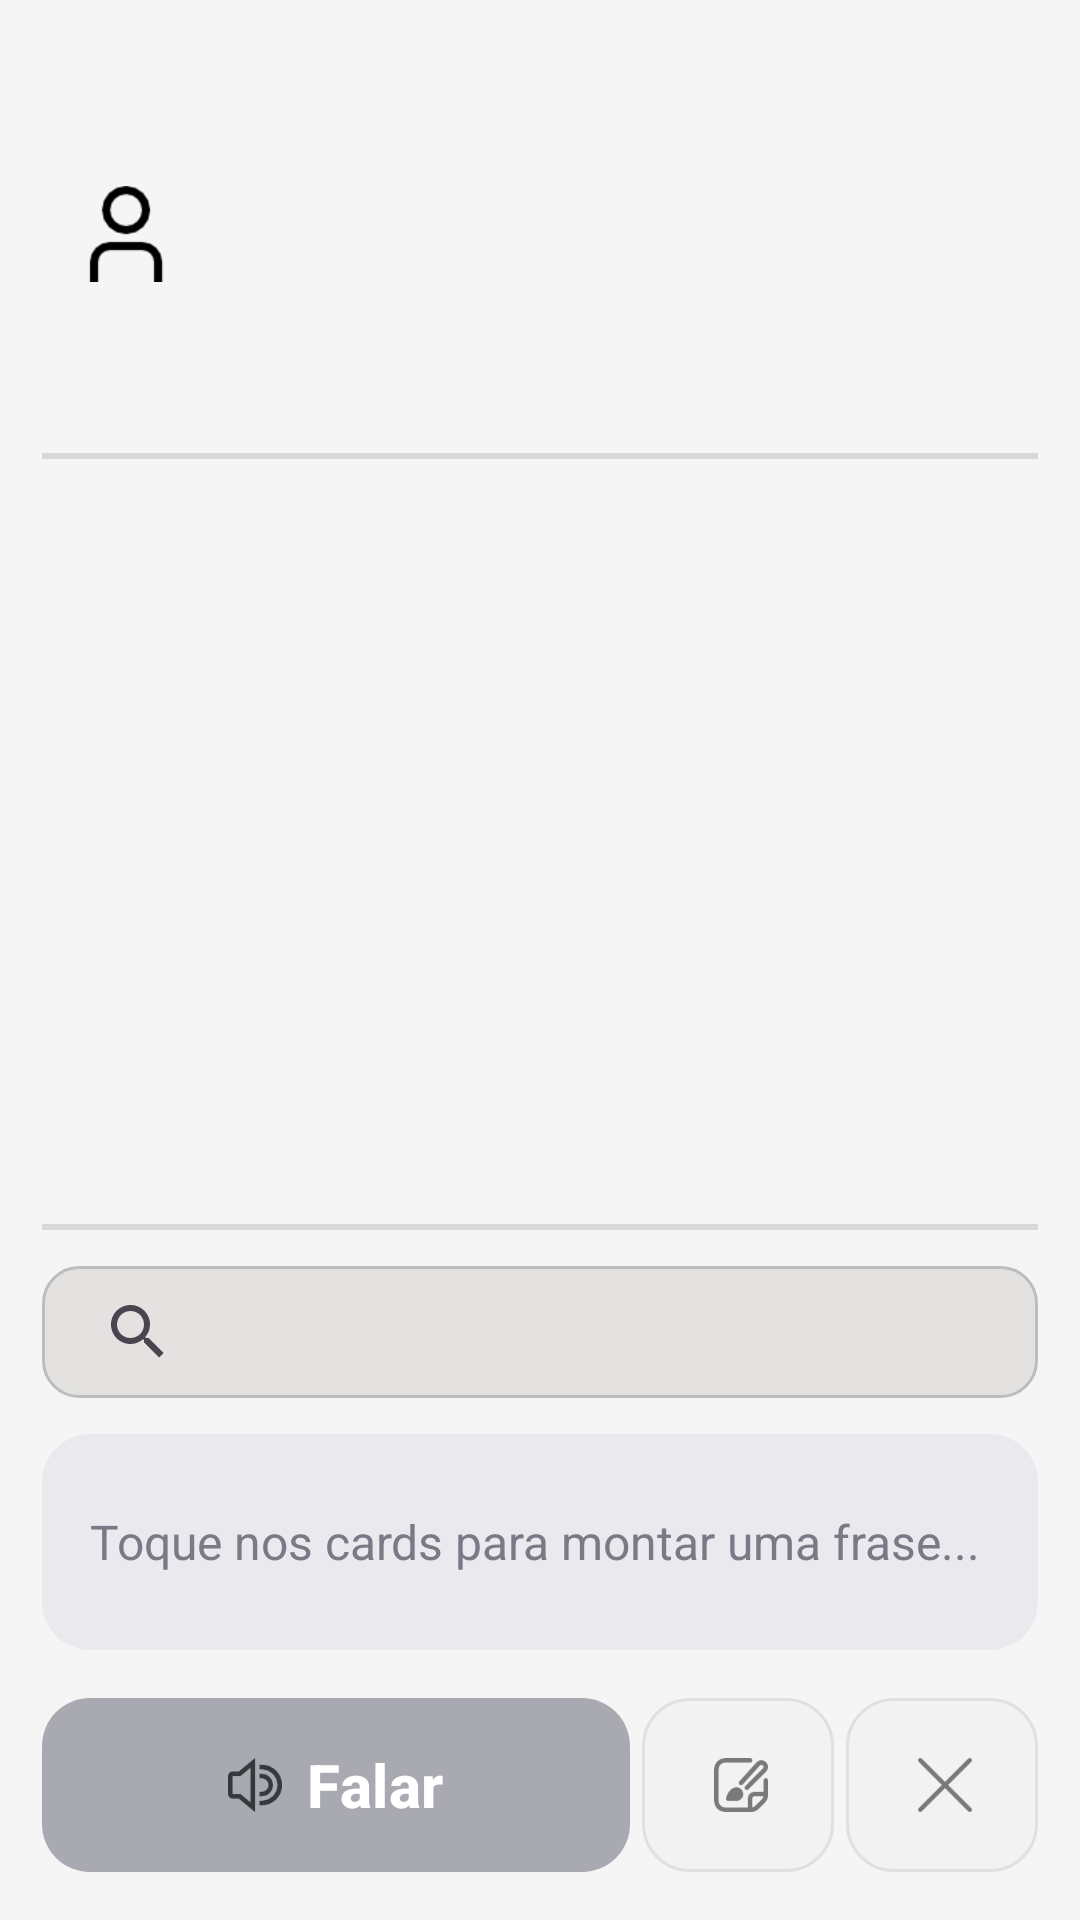

Point at icon controls on the screen. Image size 1080px x 1920px, points as point (x, y).
Deletar: point (945, 1785)
Editar: point (741, 1785)
Perfil: point (126, 234)
